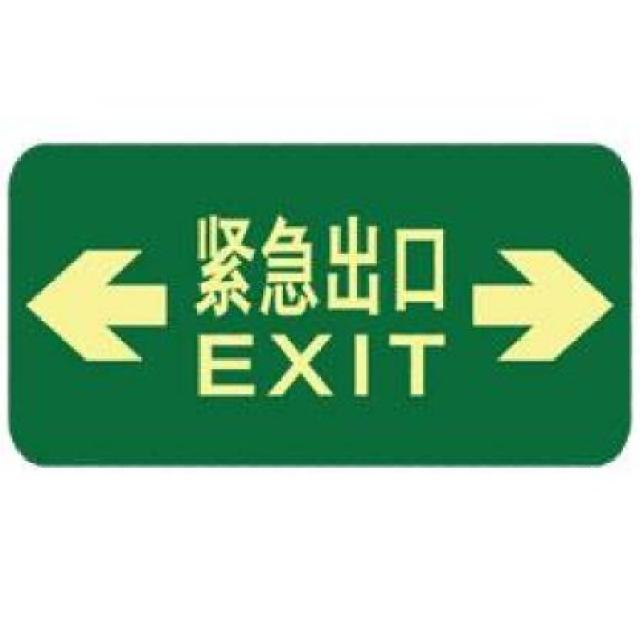exit_sign: (11, 138, 634, 472)
